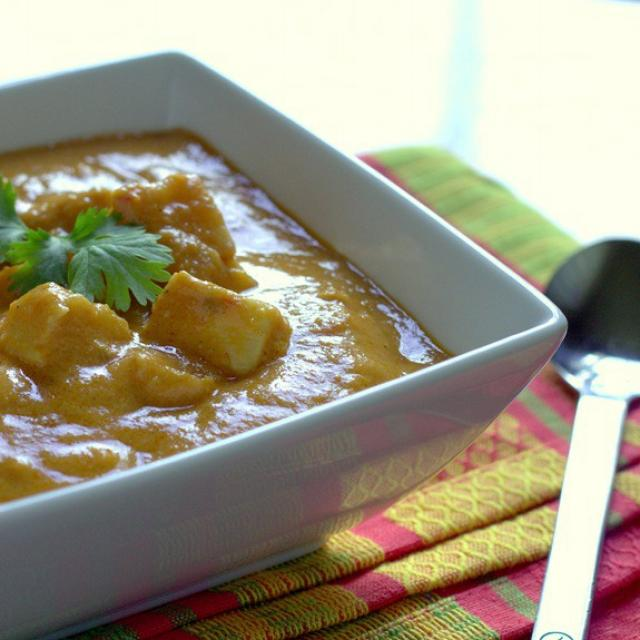ShahiPaneer: (0, 120, 455, 496)
